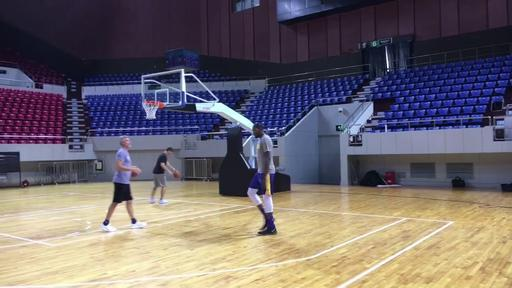ball: (132, 171, 138, 177), (174, 172, 180, 178)
human: (100, 136, 146, 232), (247, 124, 276, 235), (150, 147, 176, 204)
rim: (142, 102, 163, 119)
